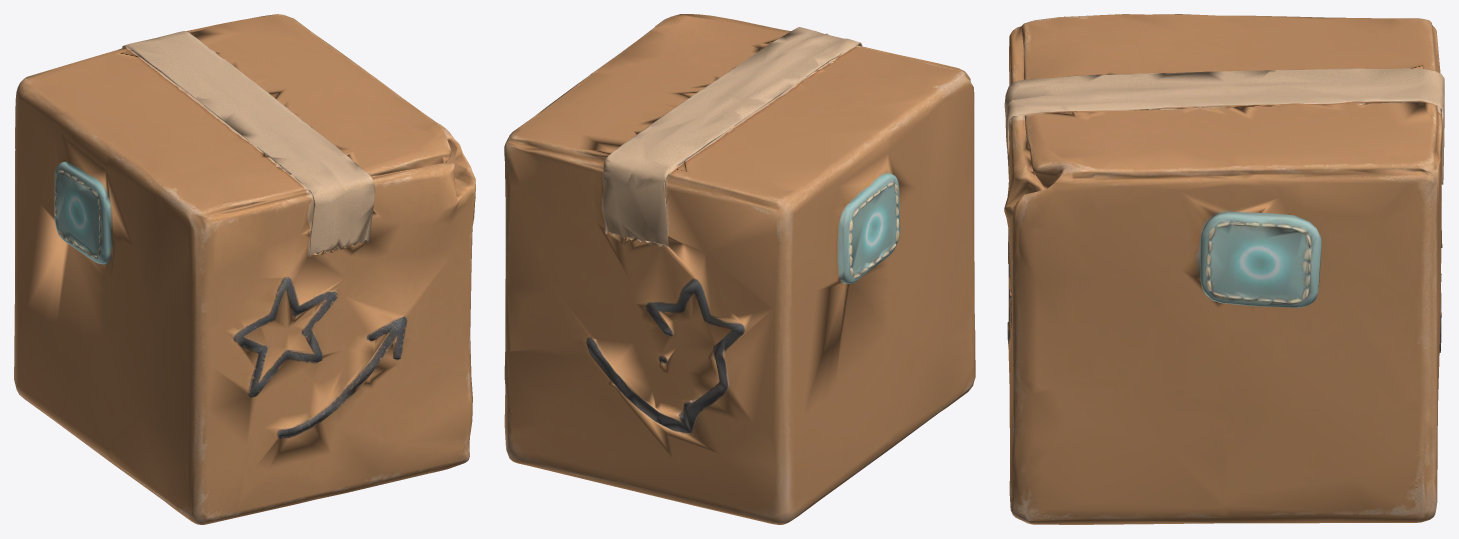
File: moving-box.high.glb
3 views of the same model, side by side, from view 1: azimuth 30°, elevation 25°; view 2: azimuth 150°, elevation 25°; view 3: azimuth 270°, elevation 25° (orthographic). The views are drawn at different scales.
Parts seen in each view (by area): view 1: tripo_node_ac6150f5-f9b6-450d-adf1-810850c692bf; view 2: tripo_node_ac6150f5-f9b6-450d-adf1-810850c692bf; view 3: tripo_node_ac6150f5-f9b6-450d-adf1-810850c692bf.
Part boxes in pixels (x1=…): tripo_node_ac6150f5-f9b6-450d-adf1-810850c692bf: x1=14, y1=14, x2=475, y2=524; tripo_node_ac6150f5-f9b6-450d-adf1-810850c692bf: x1=504, y1=14, x2=975, y2=524; tripo_node_ac6150f5-f9b6-450d-adf1-810850c692bf: x1=1004, y1=14, x2=1444, y2=524.
Size of the model in its own units: 0.4339 by 0.4399 by 0.472.
Materials: 1 (1 with a texture image).
